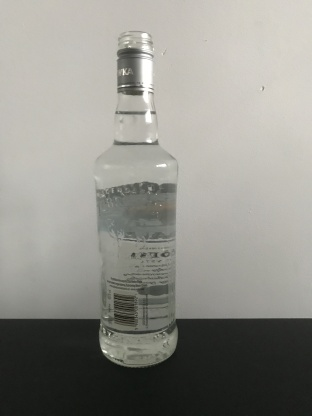nakretka: (114, 28, 156, 95)
